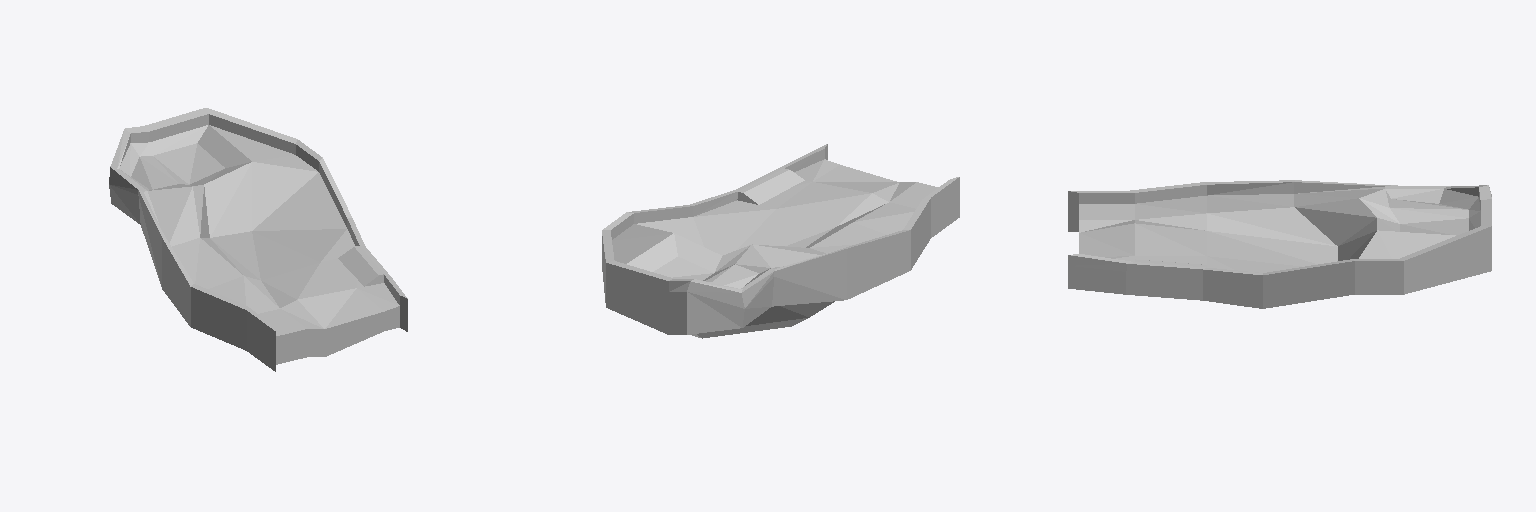
Rendered from World1Base3.obj.
3 views of the same model, side by side, from view 1: azimuth 30°, elevation 25°; view 2: azimuth 150°, elevation 25°; view 3: azimuth 270°, elevation 25° (orthographic).
Parts seen in each view (by area): view 1: World1Base3; view 2: World1Base3; view 3: World1Base3.
Part boxes in pixels (x1,y1,x2,y2): World1Base3: (109, 108, 407, 371); World1Base3: (602, 144, 959, 338); World1Base3: (1068, 180, 1491, 308).
Size of the model in its own units: 36.42 by 19.27 by 64.23.